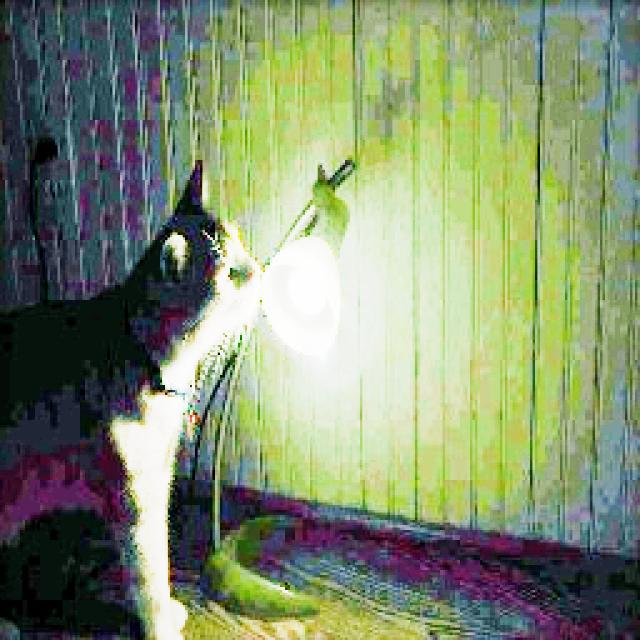cat: (0, 155, 337, 640)
